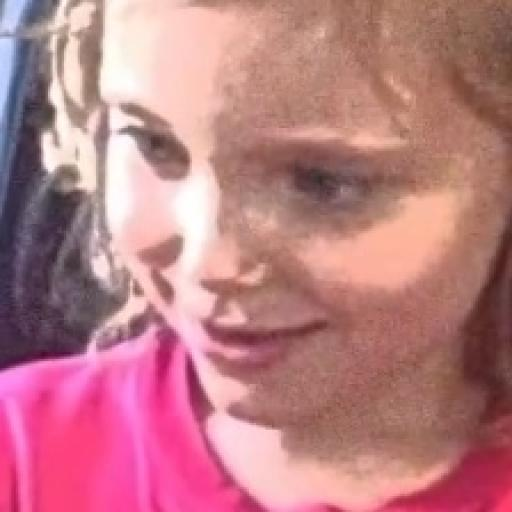Autism: (47, 4, 512, 424)
